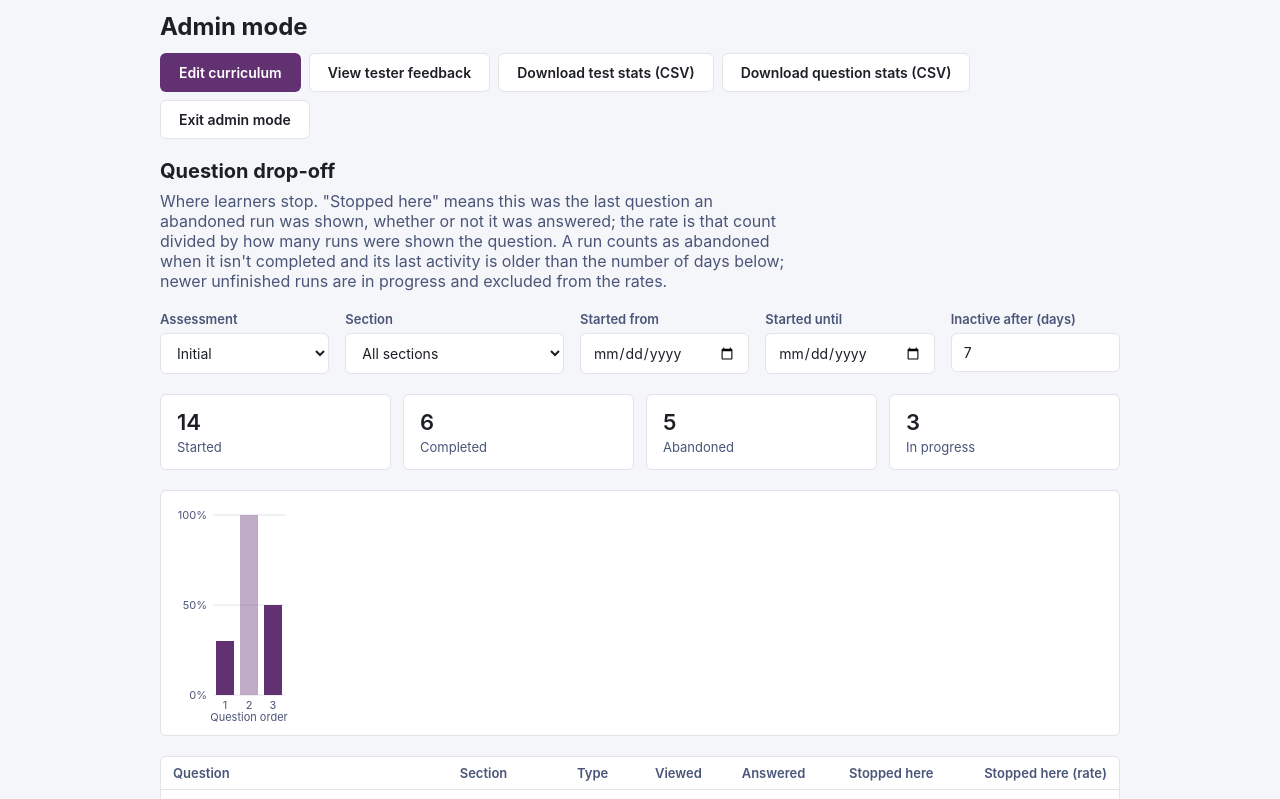
Test: AdminPage question drop-off › clears the date range with one button, which only shows while a date is set
Expected: the text "Started" is shown, [177,439,222,455]
Expected: the button "Clear dates" is not shown
Type "2026-10-01" into the date field labelled "Started from".
click(665, 354); type("2026-10-01")  # box [580,333,749,374]
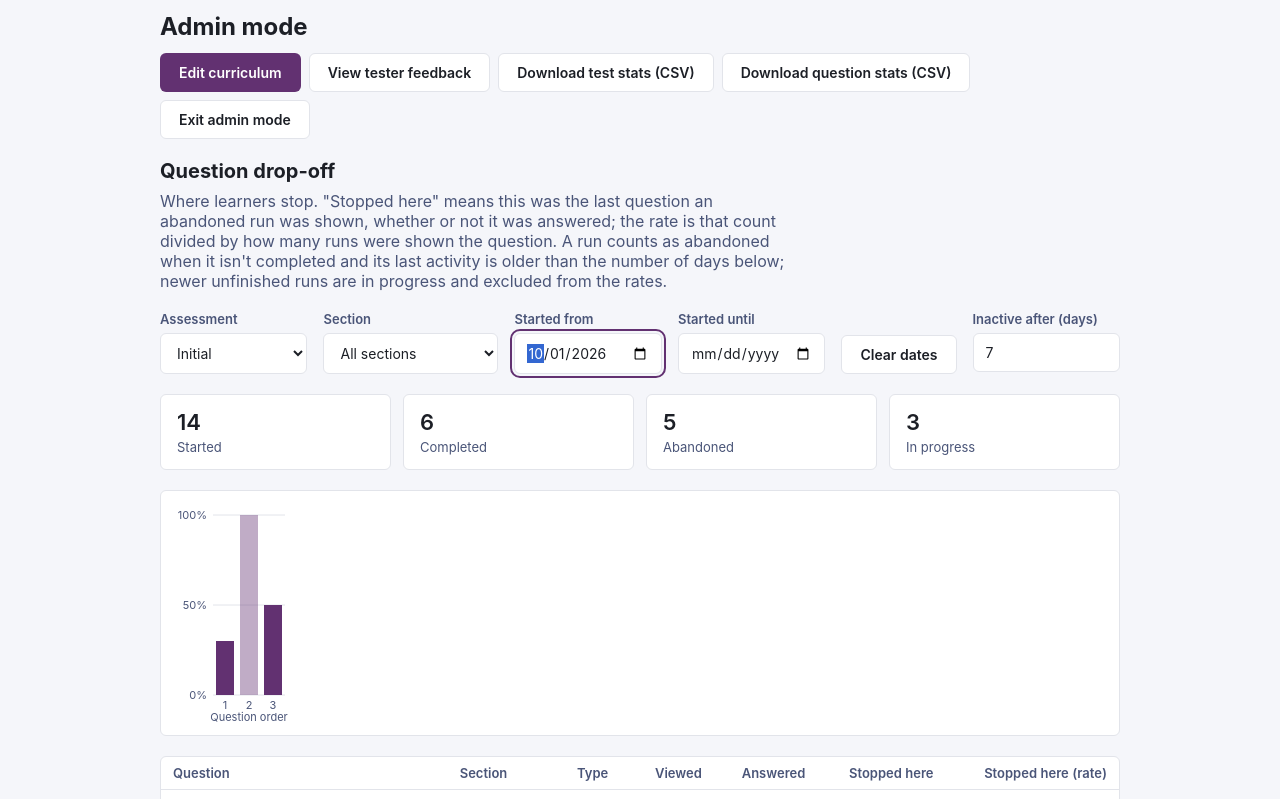
Type "2026-10-31" into the date field labelled "Started until".
click(752, 354); type("2026-10-31")  # box [678,333,825,374]
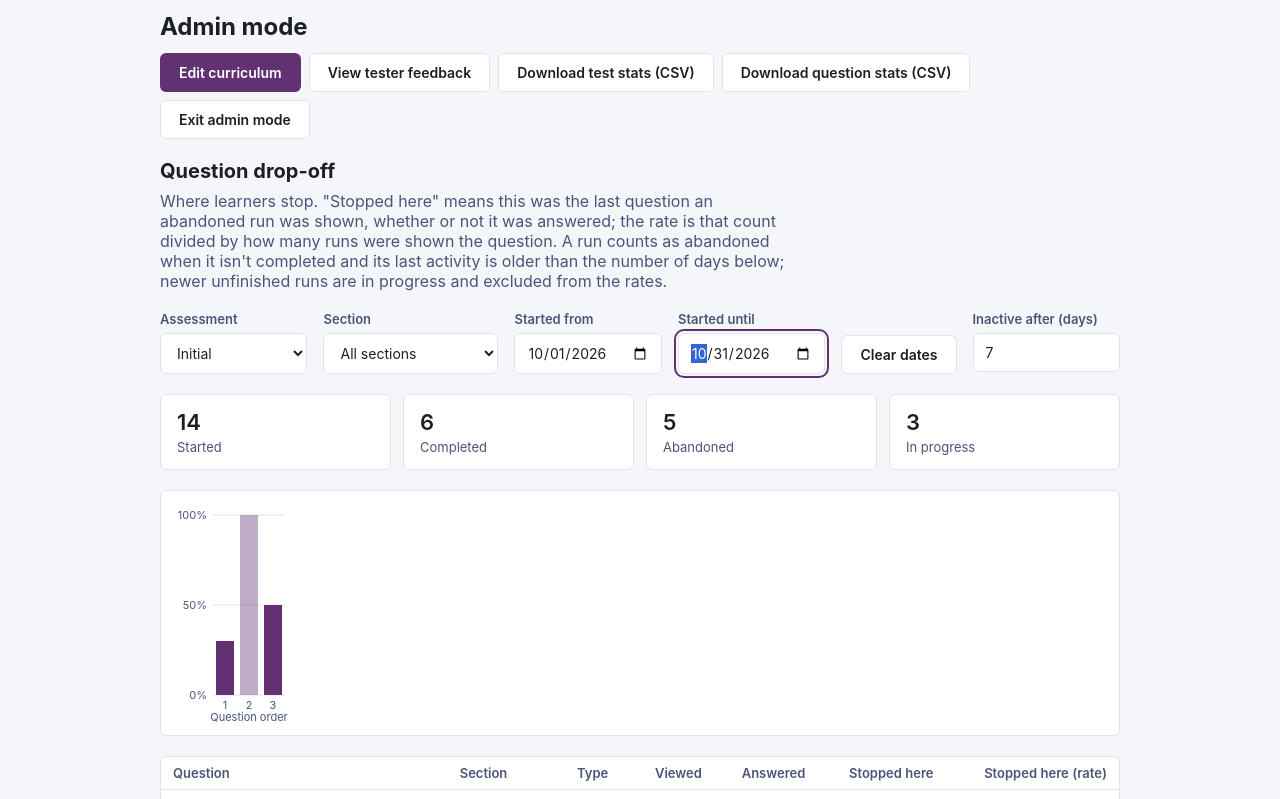
Click the button "Clear dates".
click(899, 354)  # box [841,335,956,374]
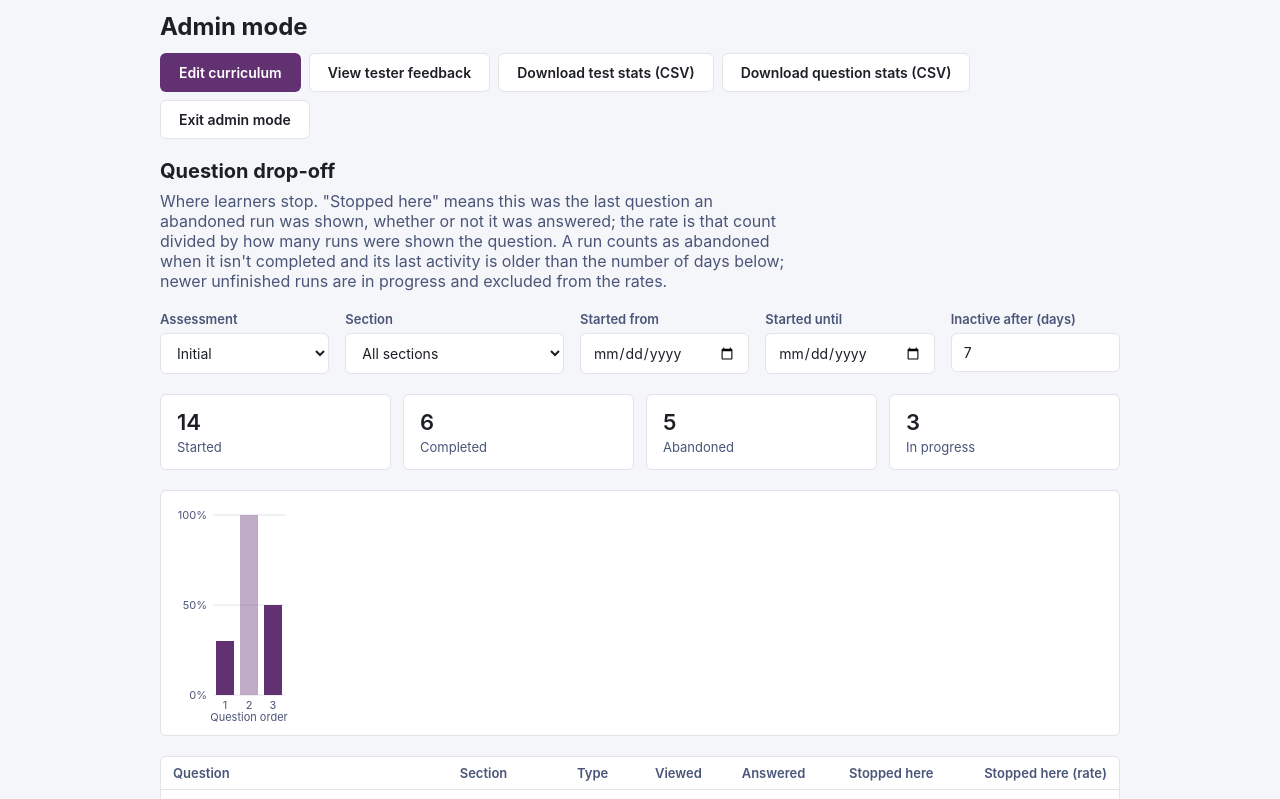
Expected: the date field labelled "Started from" is empty, [580,333,749,374]
Expected: the date field labelled "Started until" is empty, [765,333,935,374]
Expected: the button "Clear dates" is gone
